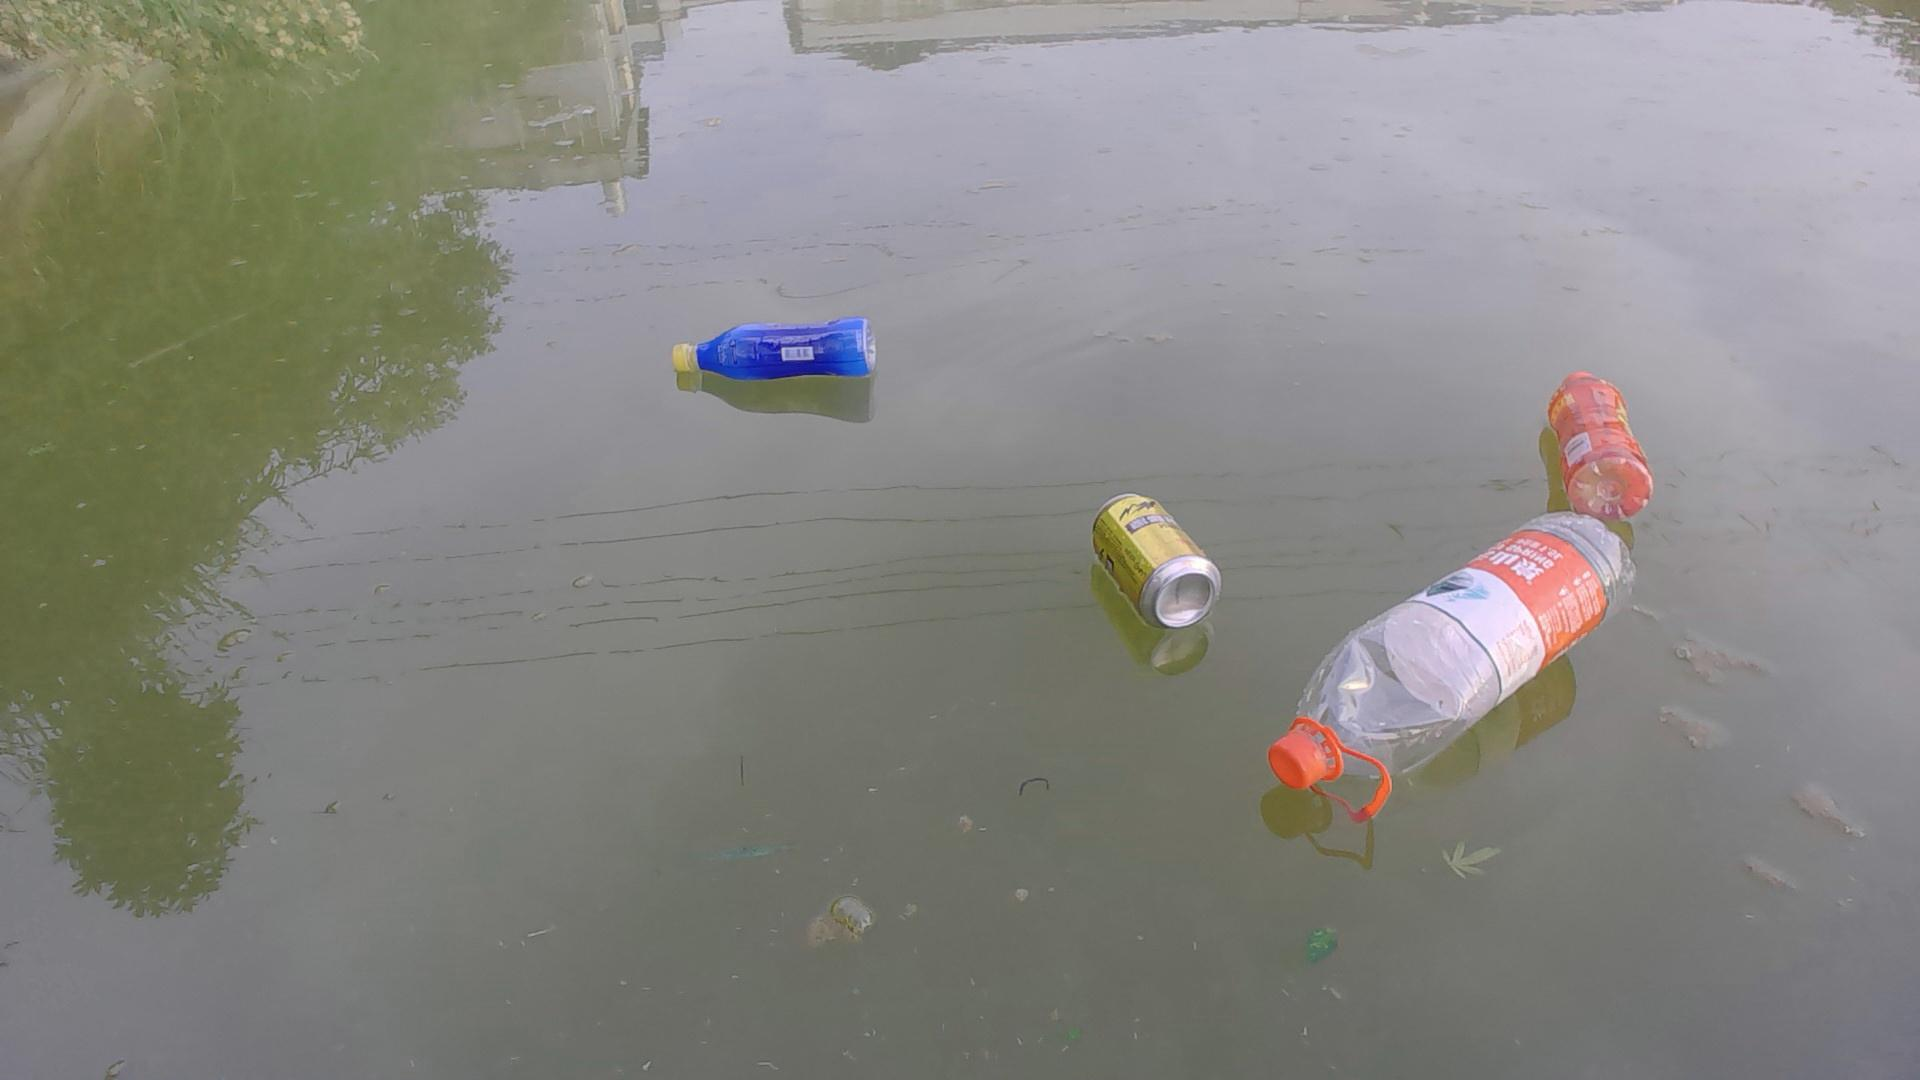Metal: (1083, 484, 1229, 633)
Plastic: (1266, 516, 1640, 823), (1528, 355, 1662, 506), (661, 309, 884, 389)
